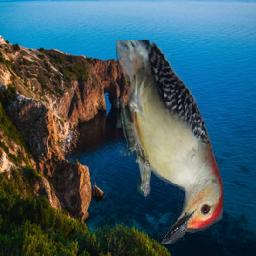Woodpecker: (117, 40, 224, 244)
